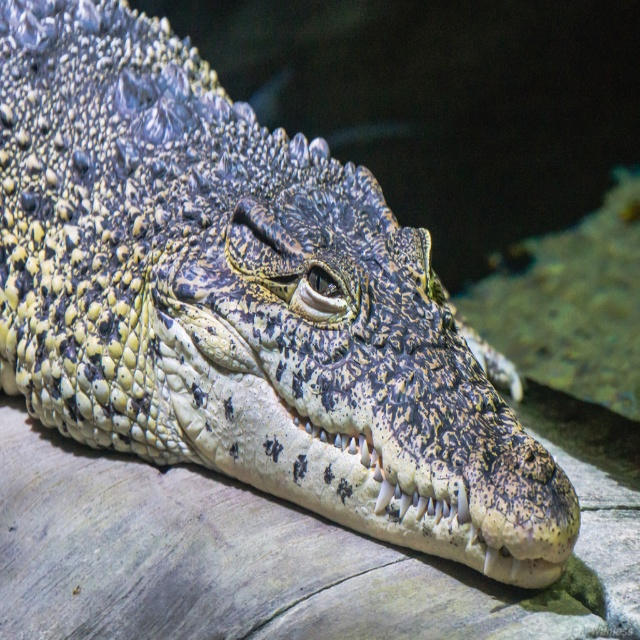Crocodile: (0, 0, 581, 589)
